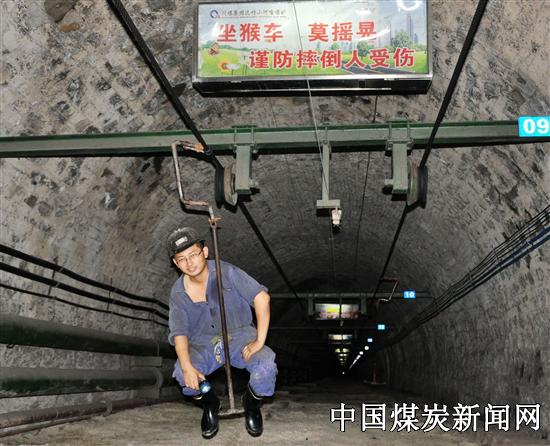helmet: (162, 223, 218, 277)
